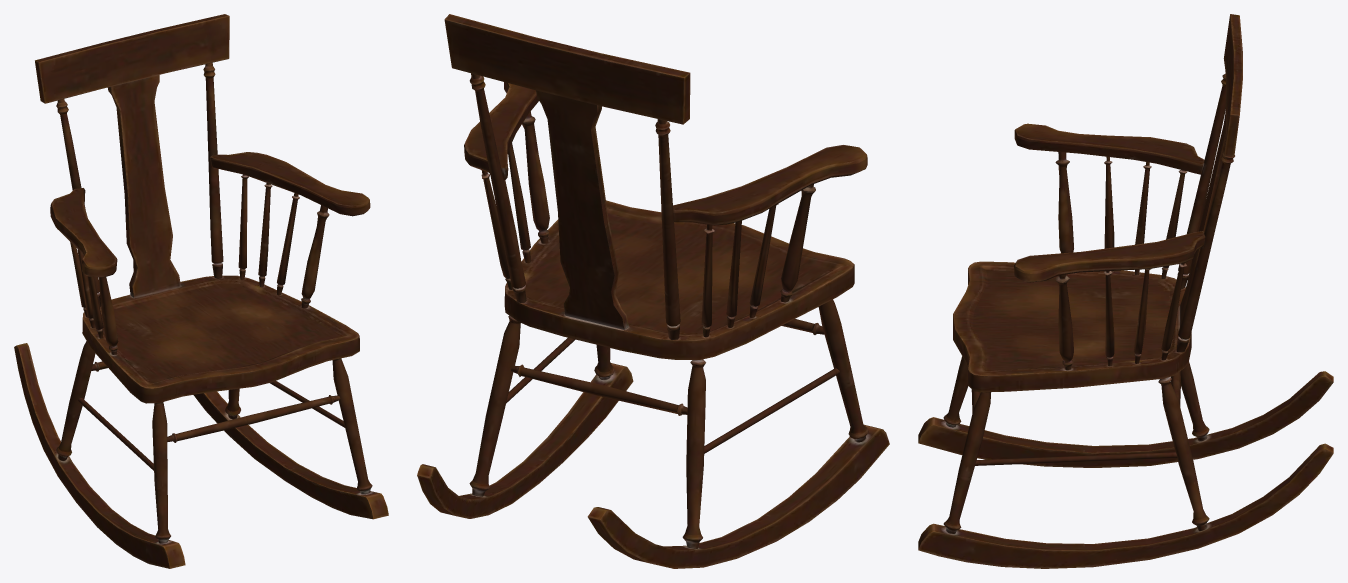
File: Rockingchair_01.glb
The picture shows the model from 3 angles, left to right: view 1: azimuth 30°, elevation 25°; view 2: azimuth 150°, elevation 25°; view 3: azimuth 270°, elevation 25°; orthographic projection. The views are drawn at different scales.
Visible parts, largest first — view 1: Rockingchair_01; view 2: Rockingchair_01; view 3: Rockingchair_01.
Boxes of the visible parts, x1,y1,x2,y2 form: Rockingchair_01: [14, 14, 388, 568]; Rockingchair_01: [417, 14, 889, 568]; Rockingchair_01: [918, 14, 1333, 568].
Size of the model in its own units: 0.7081 by 0.9949 by 0.8335.
1 material, 1 textured.
